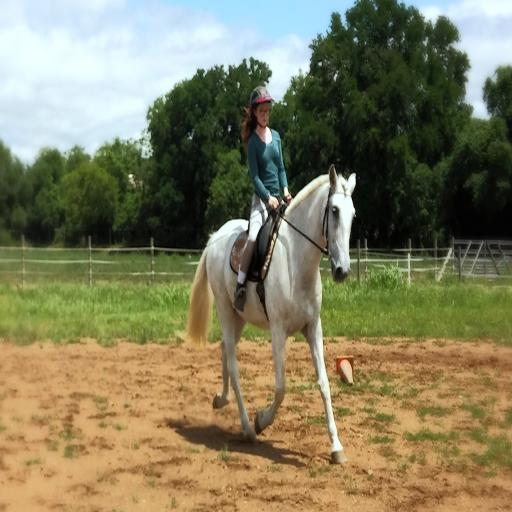horse: (186, 162, 358, 465)
